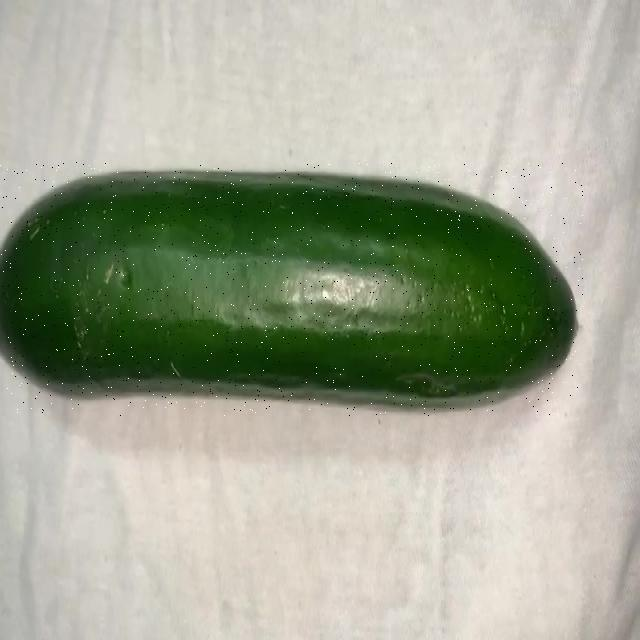Cucumber: (0, 170, 579, 414)
